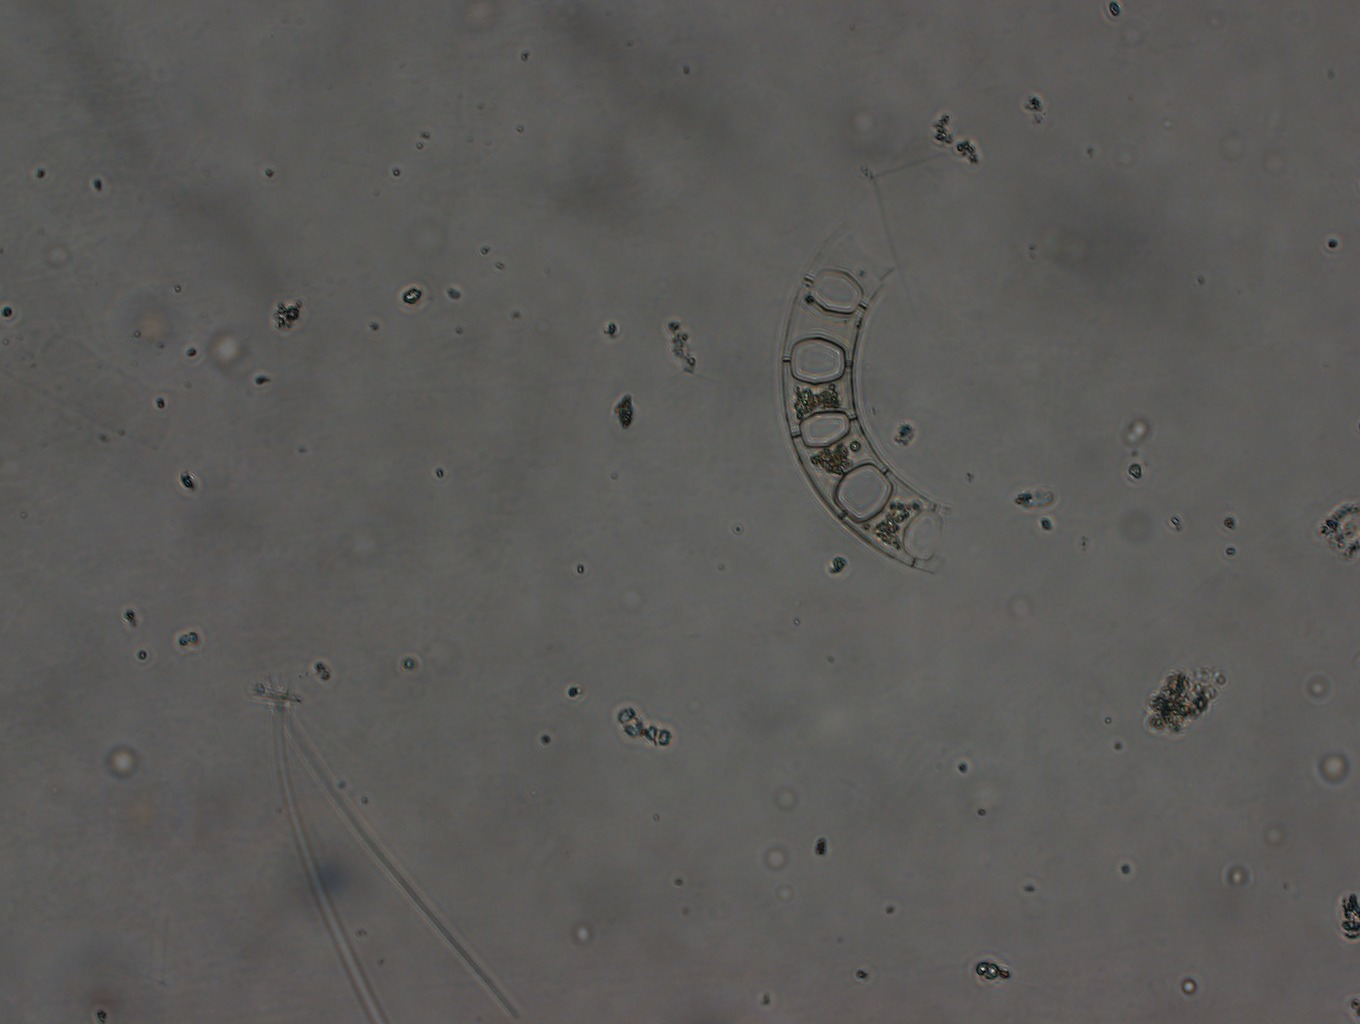eucampia: (781, 243, 954, 575)
